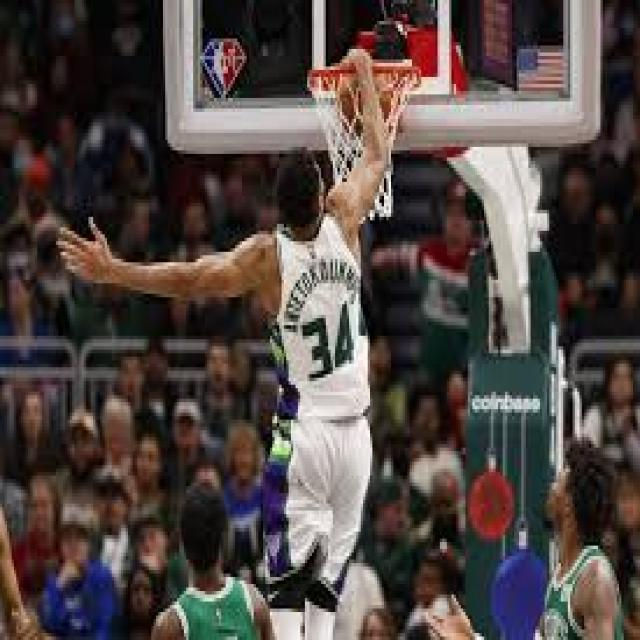rim: (344, 63, 398, 140)
